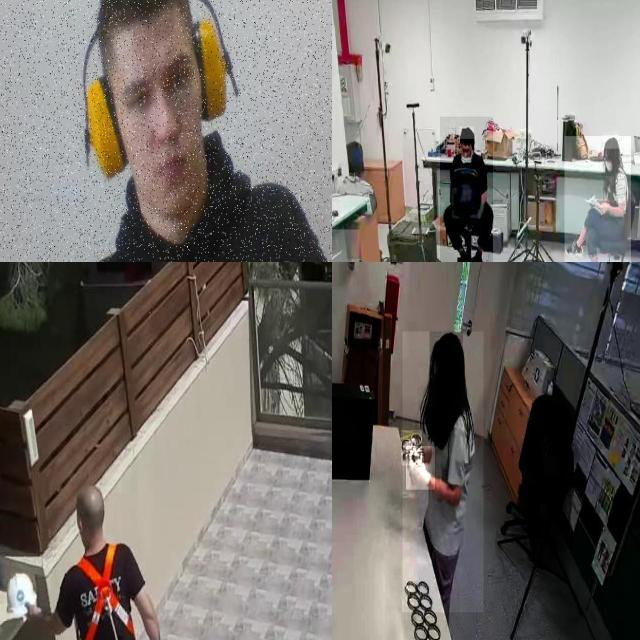Ear-protection: (55, 0, 248, 262)
Harness: (77, 544, 135, 640)
face_mask: (602, 150, 614, 176)
hand_glove: (406, 446, 435, 490), (401, 430, 422, 466)
hand_noglove: (596, 200, 610, 214)
head_nohelmet: (429, 332, 464, 362), (459, 126, 475, 140), (604, 136, 620, 150)
person: (402, 332, 484, 614), (564, 136, 631, 262), (440, 116, 493, 262)
shoes: (564, 238, 586, 259), (473, 247, 490, 262), (454, 249, 469, 262)
